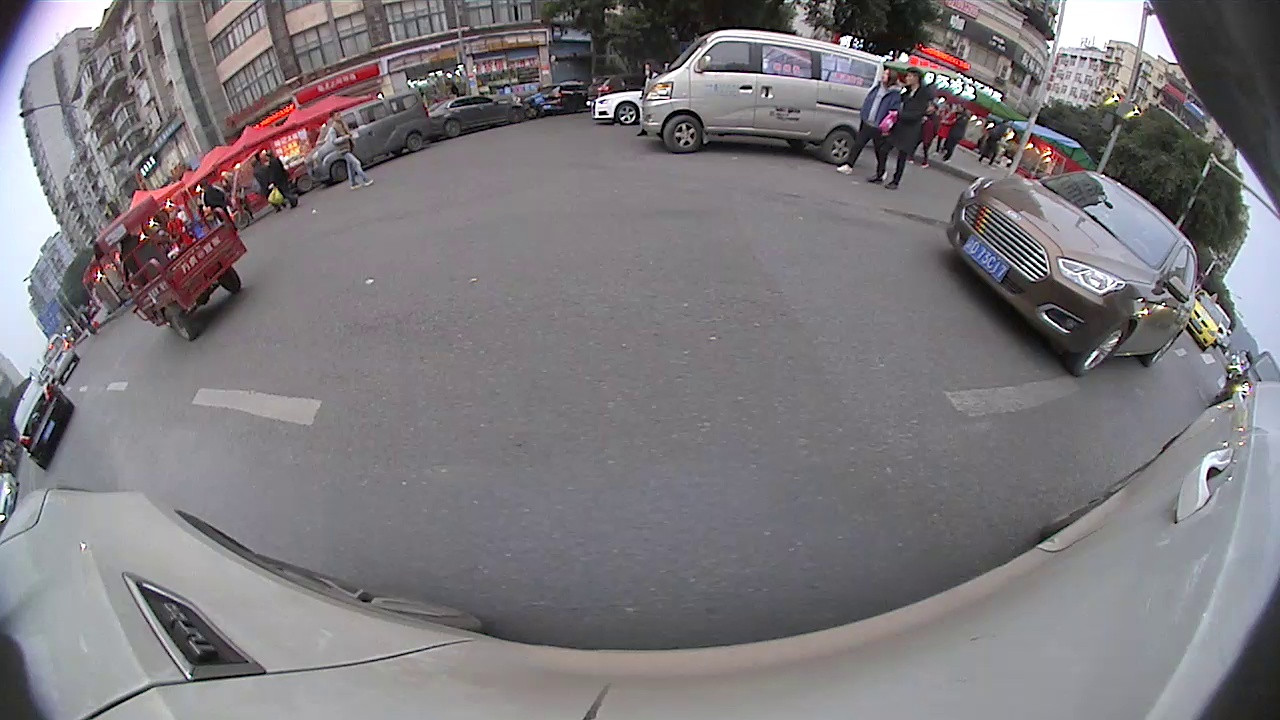car: (941, 170, 1201, 380), (637, 27, 890, 165), (304, 86, 435, 188), (8, 370, 81, 471), (425, 92, 540, 141), (37, 333, 83, 384)
front: (1070, 318, 1131, 381), (661, 111, 706, 158), (614, 100, 641, 127)
person: (861, 60, 903, 185), (888, 65, 927, 193), (329, 107, 367, 192)
rear: (823, 127, 861, 167), (162, 305, 197, 343)
rider: (91, 194, 248, 340)
